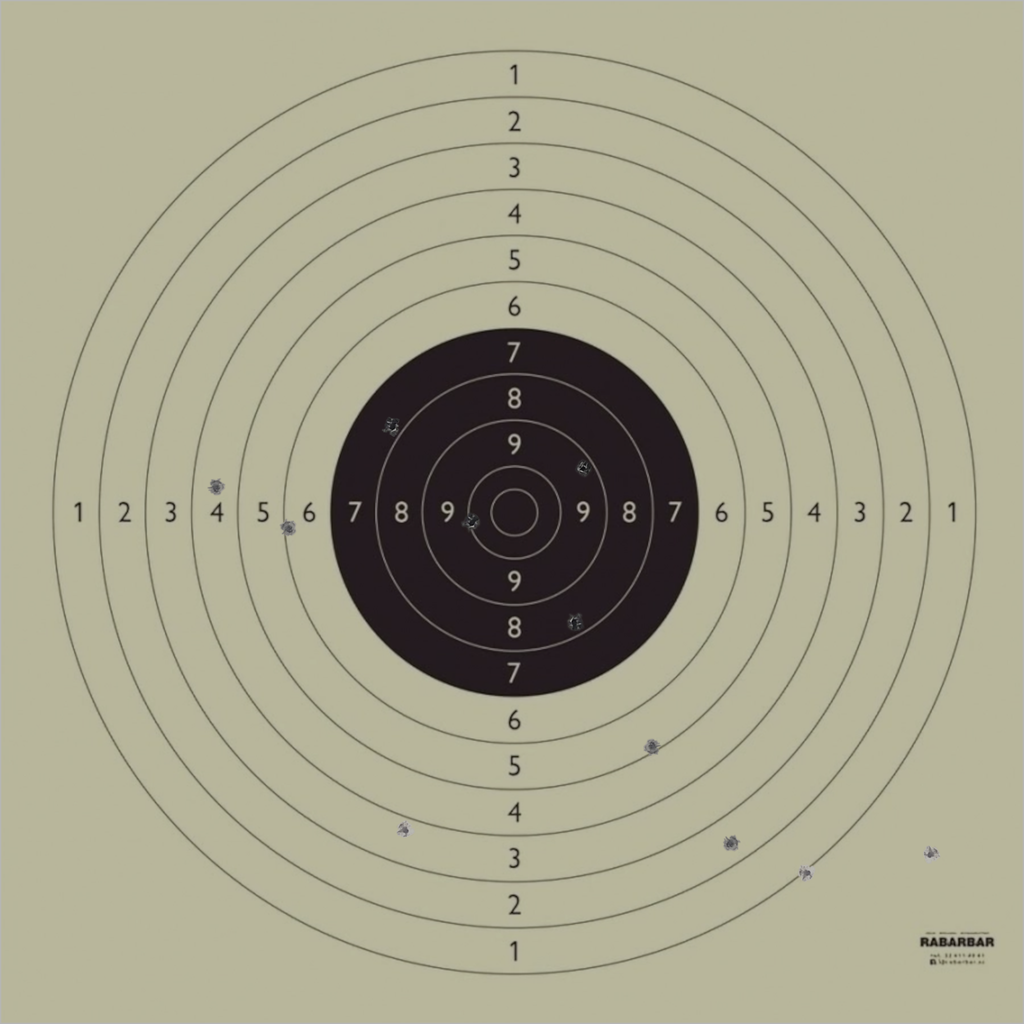0 punktow: (921, 845, 940, 864)
1 punkt: (798, 864, 816, 882)
10 punktow: (462, 514, 481, 532)
2 punkty: (721, 834, 740, 853)
3 punkty: (396, 821, 414, 839)
4 punkty: (207, 479, 226, 497)
5 punktow: (643, 737, 661, 756)
6 punktow: (280, 519, 298, 538)
7 punktow: (383, 417, 402, 435)
8 punktow: (565, 613, 584, 631)
9 punktow: (574, 459, 592, 478)
